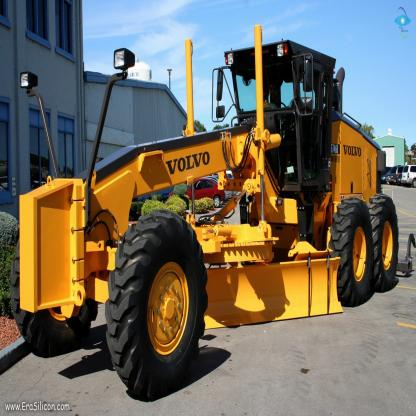bull_dozer/loader/grader: (10, 17, 409, 394)
